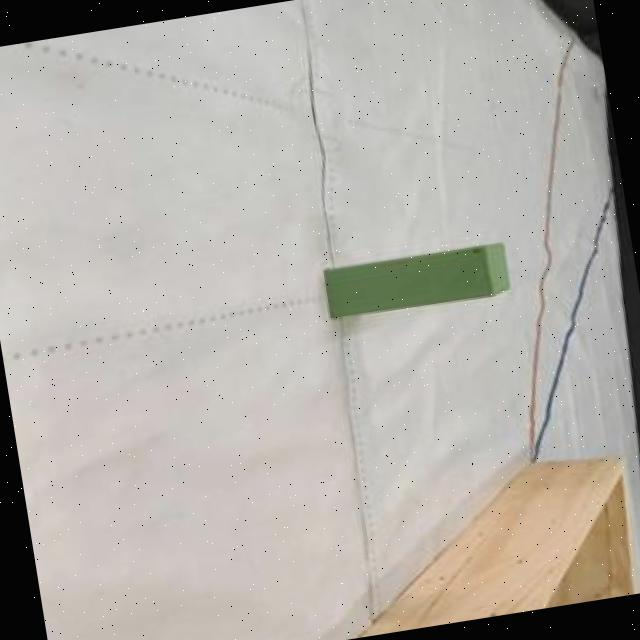greenbox: (318, 237, 516, 324)
